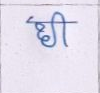i_matra: (54, 11, 72, 47)
